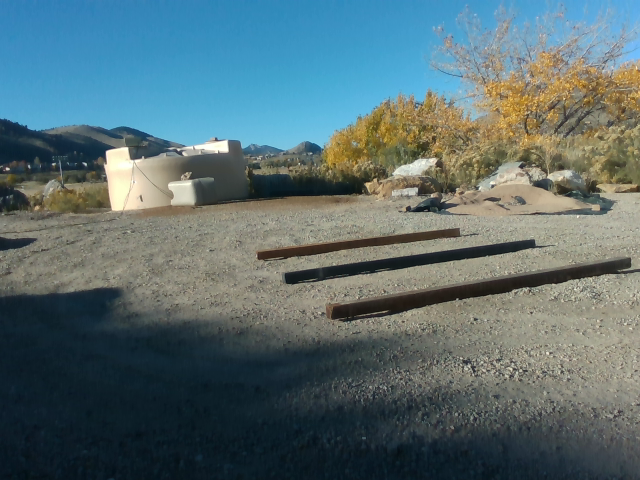dunnage: (248, 208, 636, 330)
